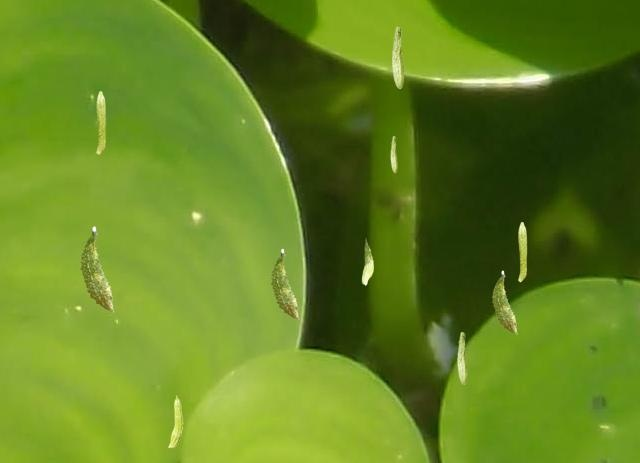ampalaya: (79, 226, 114, 312), (269, 248, 299, 320), (491, 270, 517, 334), (167, 395, 183, 448), (391, 26, 404, 89), (96, 91, 106, 154), (361, 238, 374, 286), (518, 221, 527, 282), (457, 331, 467, 384), (390, 135, 398, 173)
